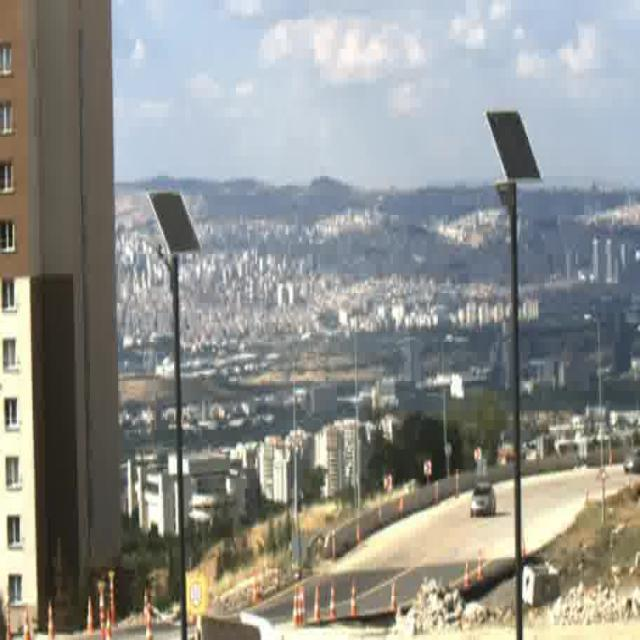Car: (469, 485, 497, 519), (624, 446, 638, 474)
